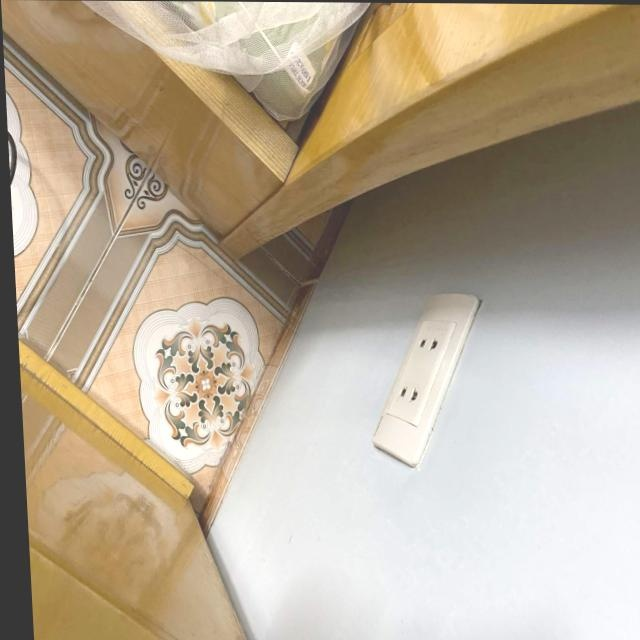outlet: (363, 292, 490, 468)
